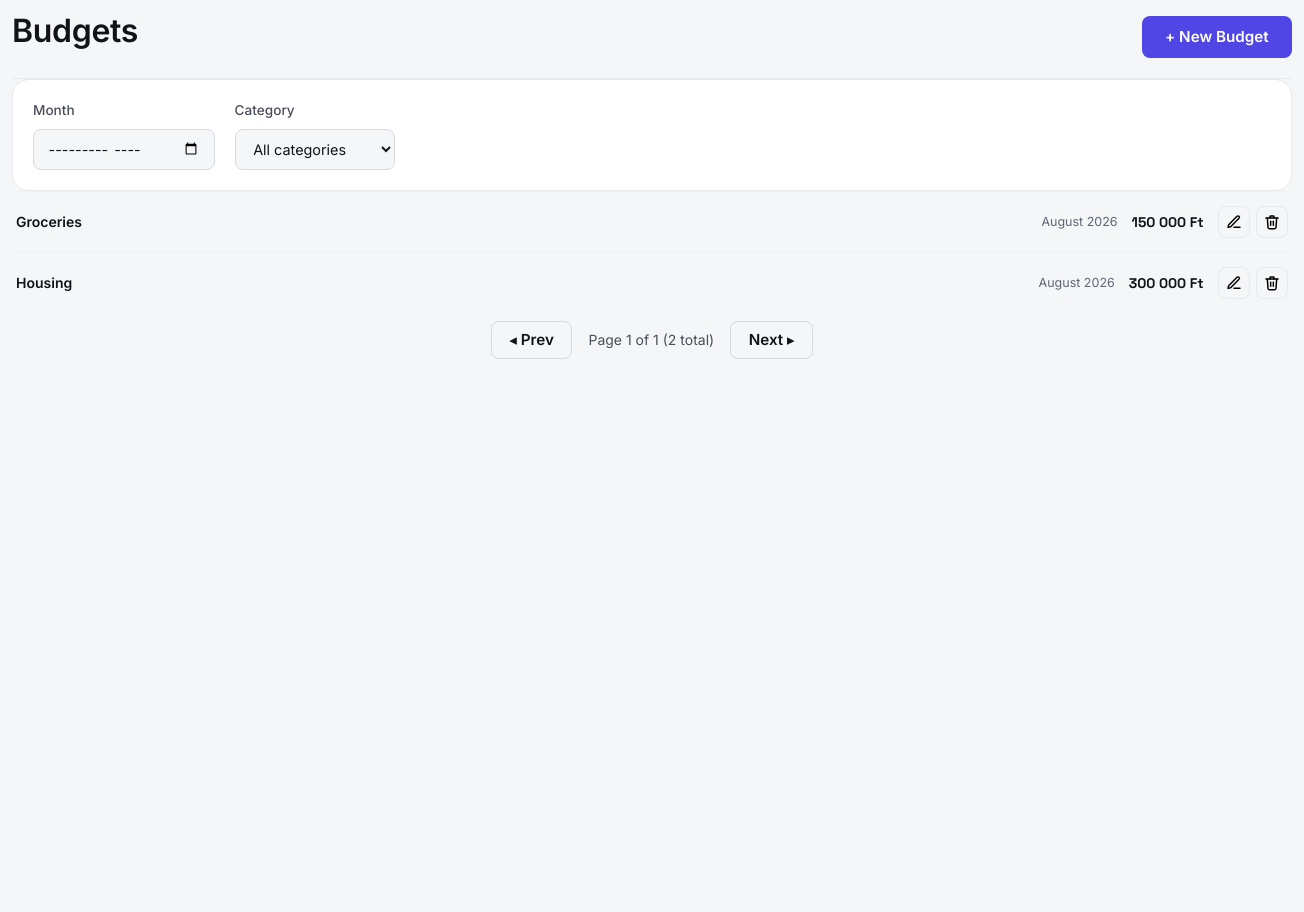
Scenario: BudgetsTab › updates a budget with the month suffixed to a full date, closes the form, shows success, and reloads the same page
Click the button named "Edit Housing, August 2026".
click(1234, 283)  # box x1=1218 y1=267 x2=1250 y2=299
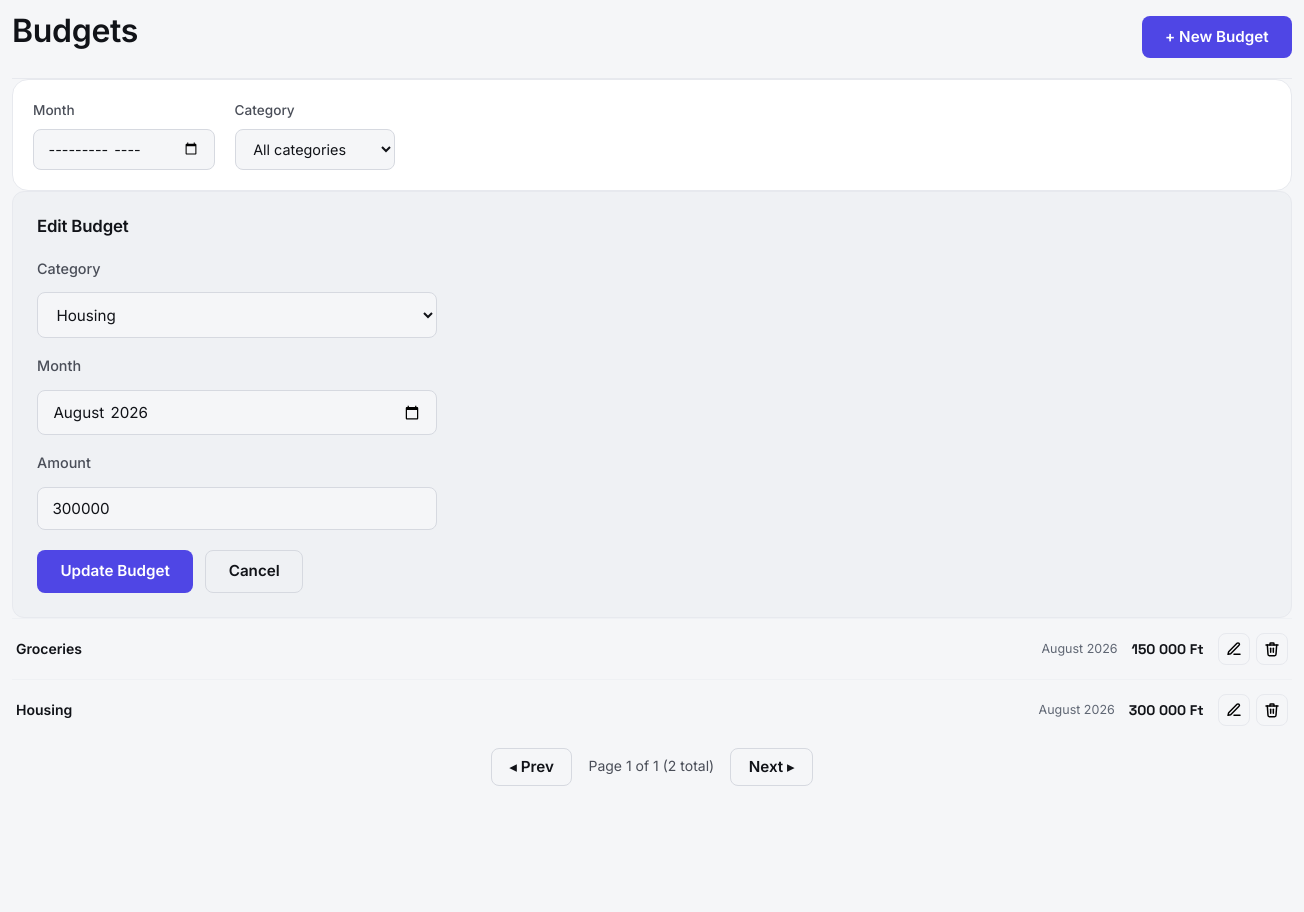
Replace the text in the number field labelled "Amount" with "320000" at {"x": 237, "y": 508}, box x1=37 y1=487 x2=437 y2=530
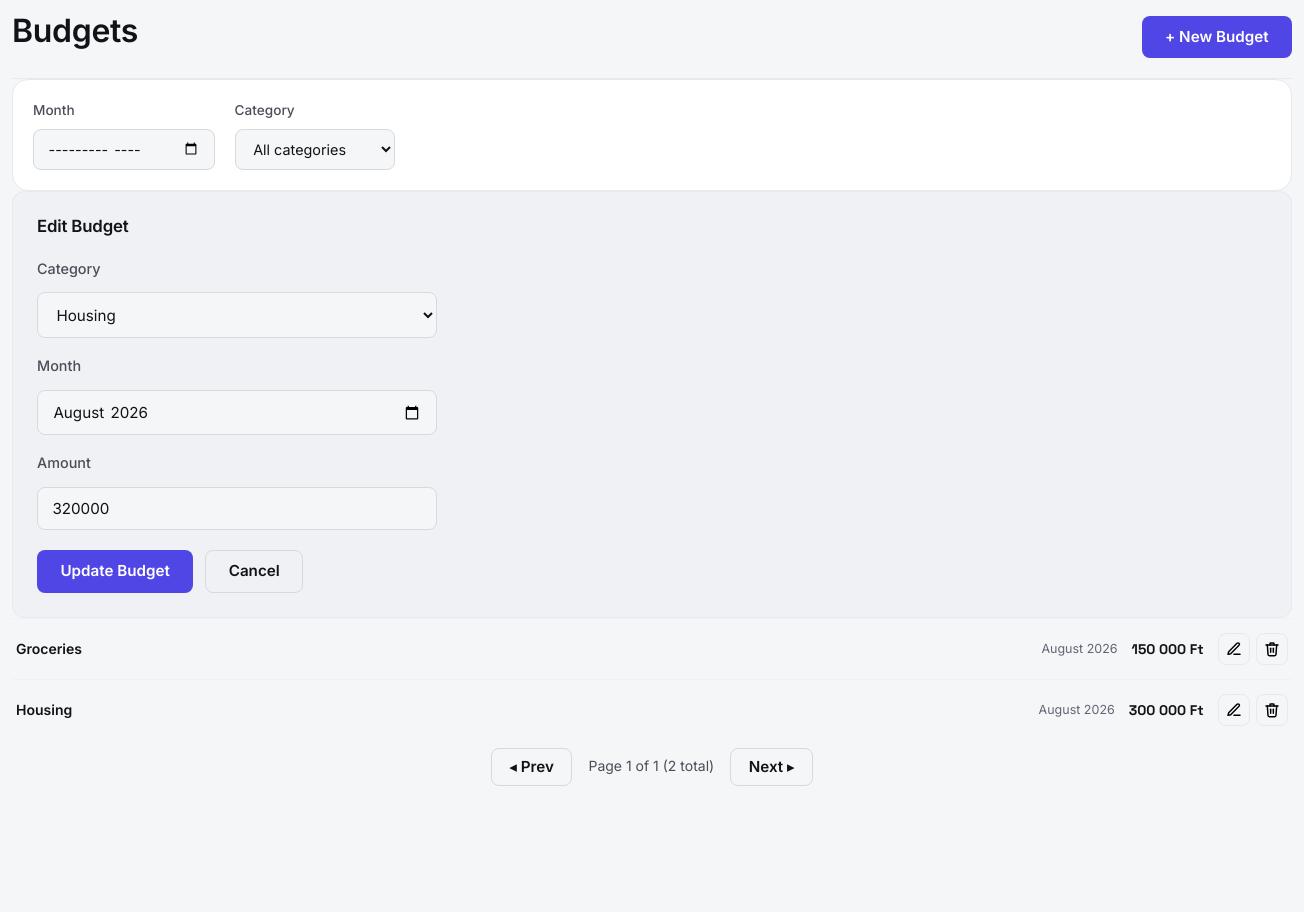
Click the button "Update Budget".
click(115, 571)  # box x1=37 y1=550 x2=193 y2=593
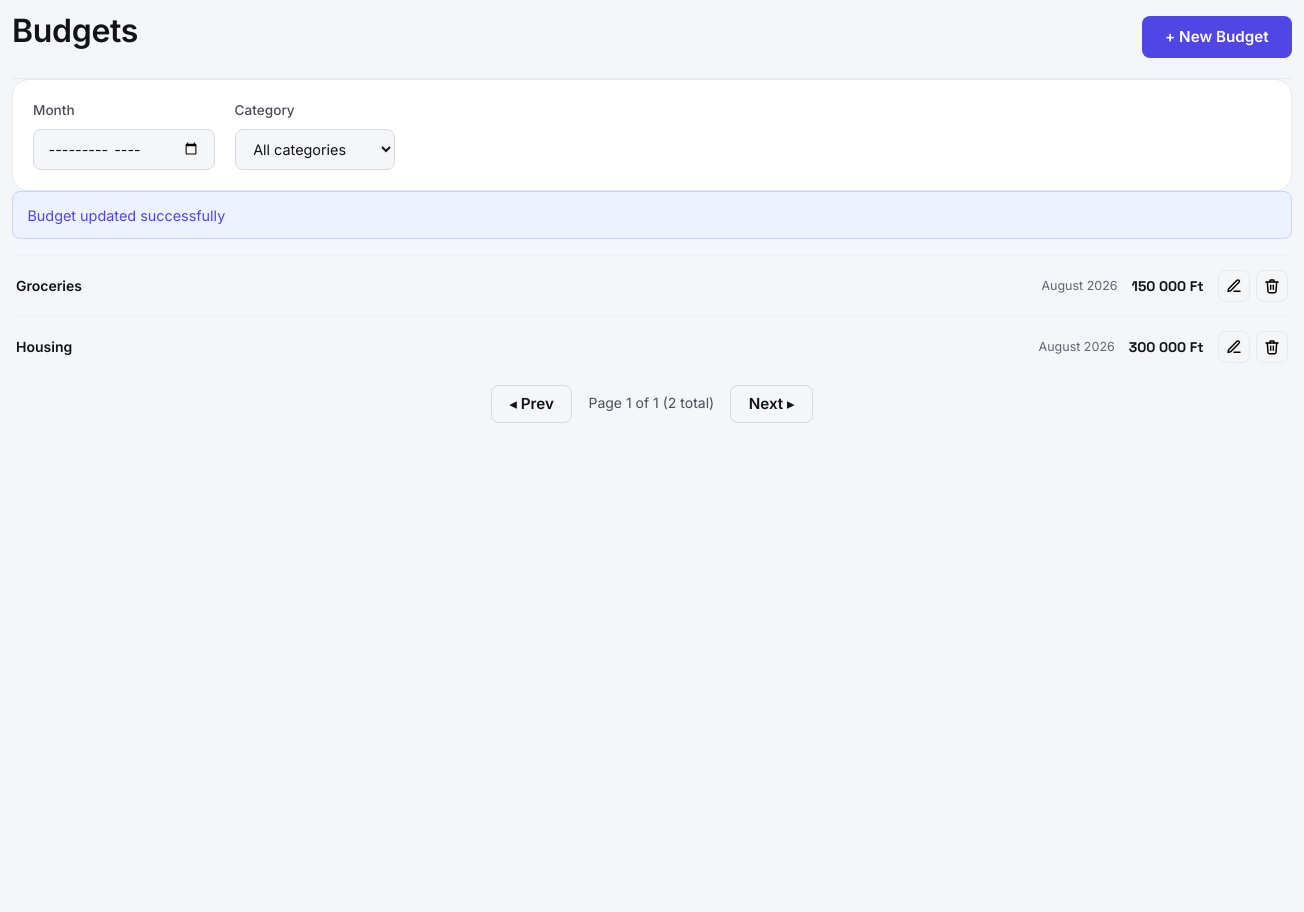
Expected: the heading "Edit Budget" is gone
